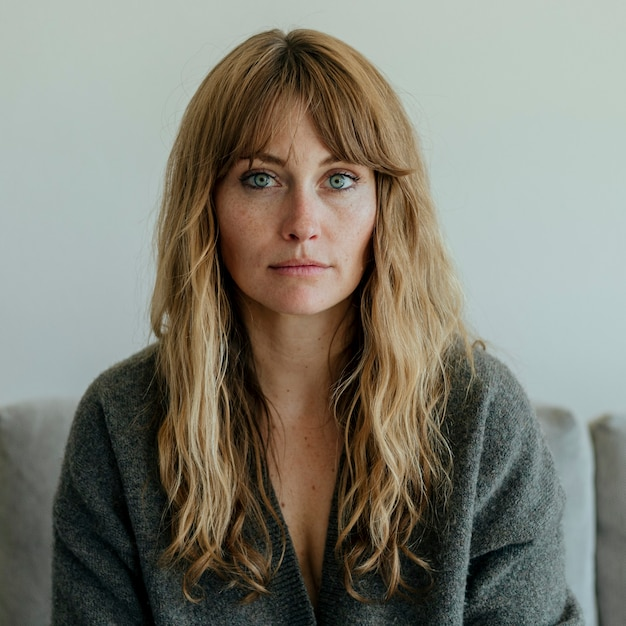young: (152, 34, 450, 382)
